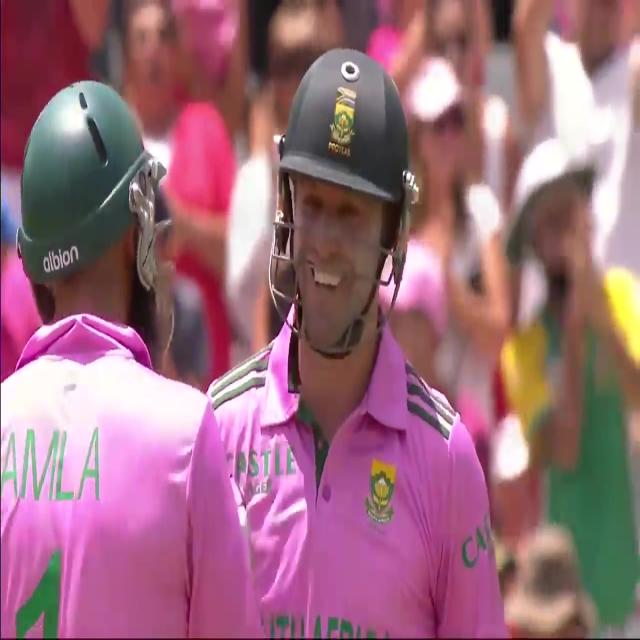Ball: (148, 52, 503, 638), (1, 82, 237, 638)
